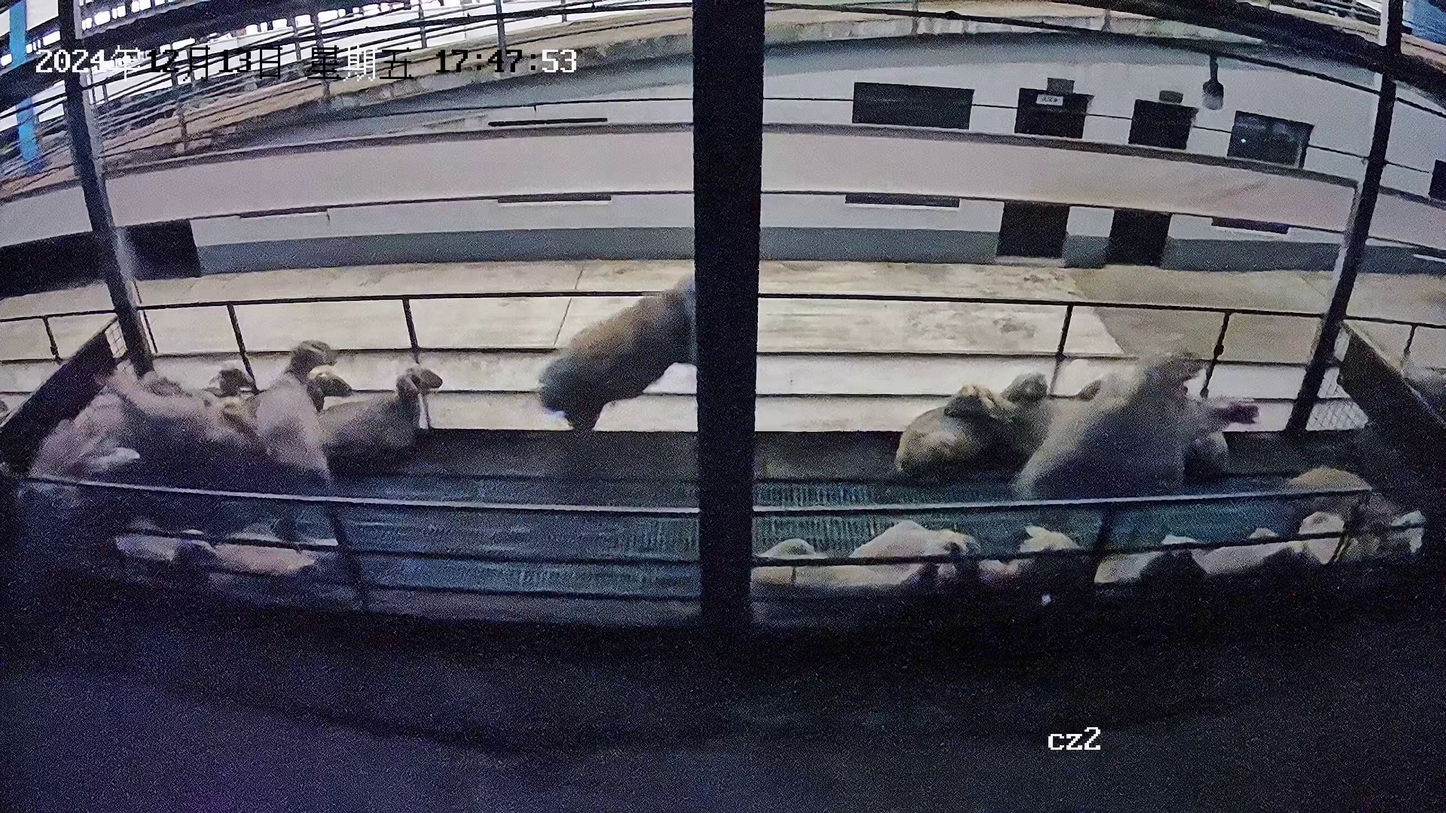Smounting: (1007, 342, 1210, 517)
mounted: (1131, 379, 1190, 496)
